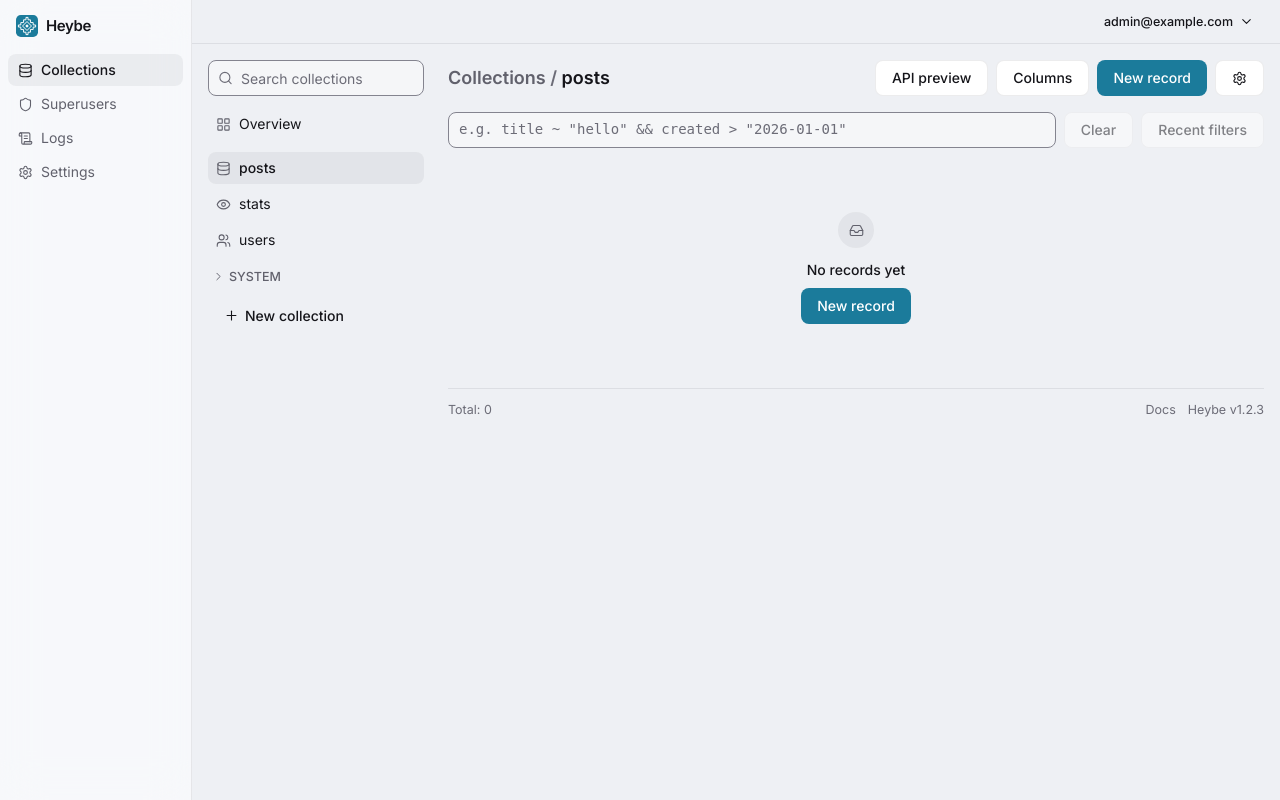
Scenario: the System toggle exposes its state
Click the button "System" at point(316, 277), box [208, 268, 424, 286]
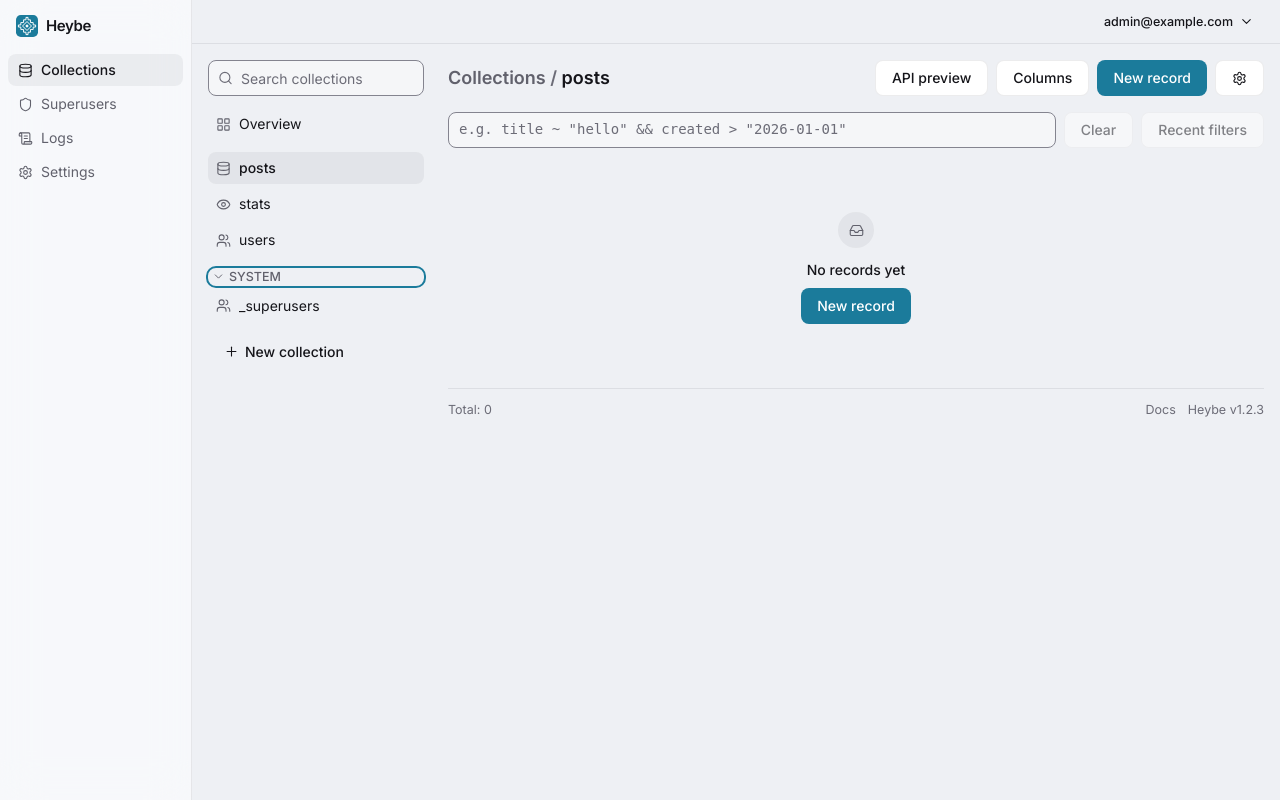
Expected: the button "System" is expanded, [208, 268, 424, 286]
